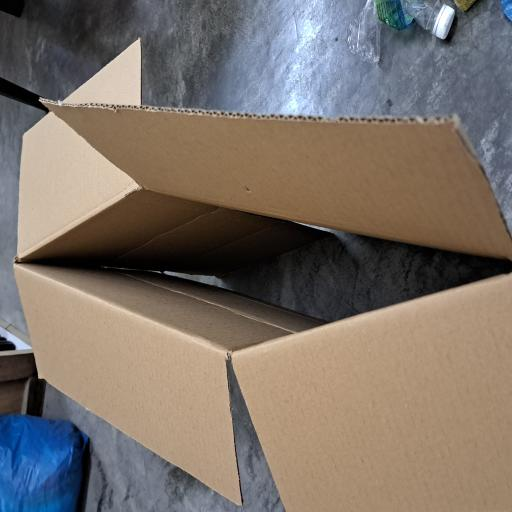cardboard: (0, 18, 358, 512)
plastic bag: (0, 0, 75, 114)
